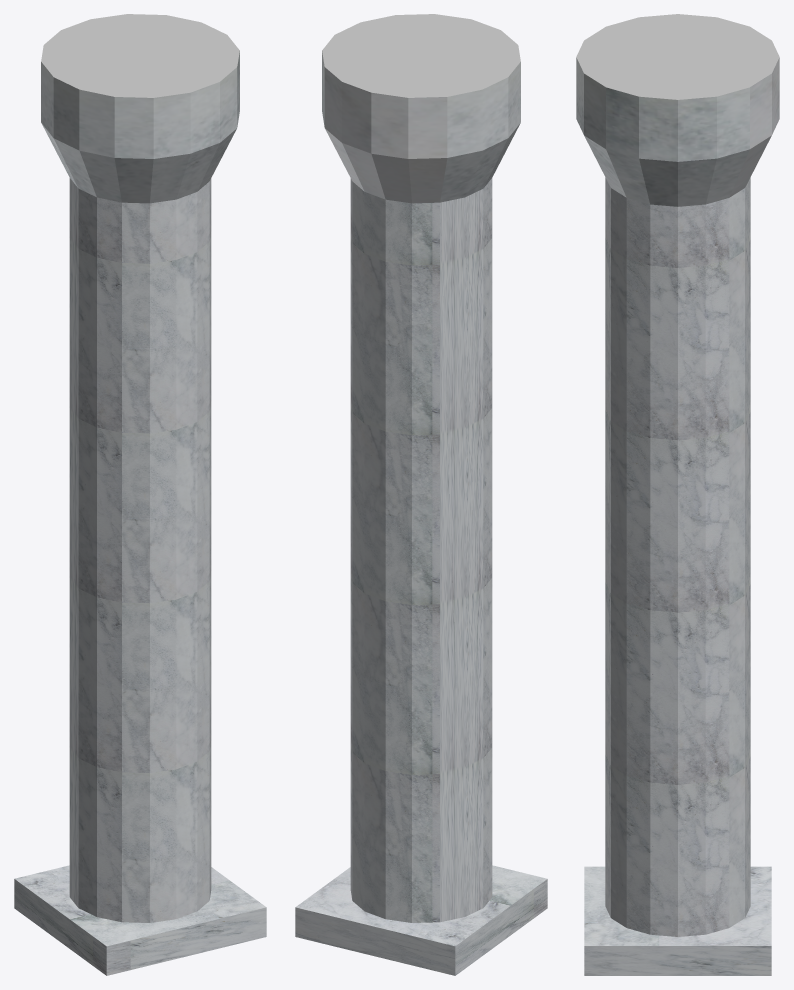
File: Pillar.obj
3 views of the same model, side by side, from view 1: azimuth 30°, elevation 25°; view 2: azimuth 150°, elevation 25°; view 3: azimuth 270°, elevation 25° (orthographic).
Visible parts, largest first — view 1: Pillar1_Circle; view 2: Pillar1_Circle; view 3: Pillar1_Circle.
Part boxes in pixels (x1,y1,x2,y2): Pillar1_Circle: (14,14,266,975); Pillar1_Circle: (295,14,547,975); Pillar1_Circle: (576,14,779,975).
Bounding box in the file's own units: 10.67 × 50.91 × 10.67.
2 materials, 1 textured.
